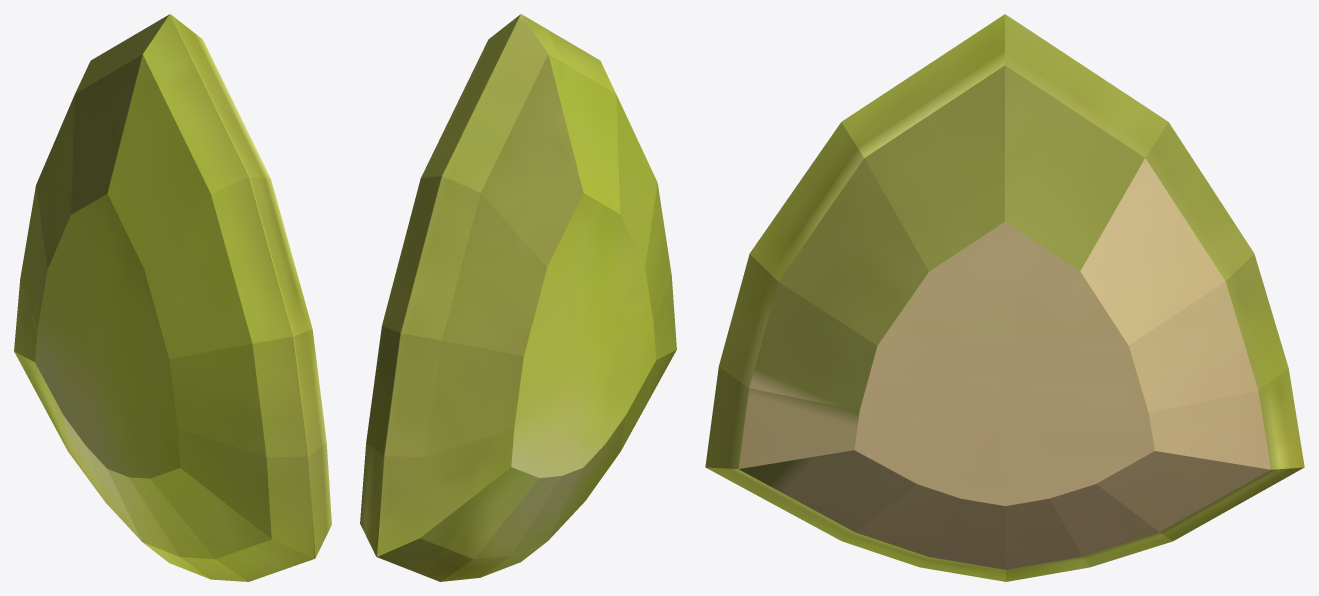
Rendered from peridot.fbx.
3 renders of one model, left to right at view 1: azimuth 30°, elevation 25°; view 2: azimuth 150°, elevation 25°; view 3: azimuth 270°, elevation 25°, orthographic. The views are drawn at different scales.
Visible parts, largest first — view 1: Peridot; view 2: Peridot; view 3: Peridot.
Part boxes in pixels (x1,y1,x2,y2): Peridot: [14, 14, 331, 581]; Peridot: [360, 14, 676, 581]; Peridot: [705, 14, 1304, 581].
Size of the model in its own units: 5.32 by 20.27 by 19.4.
Materials: 1 (1 with a texture image).
